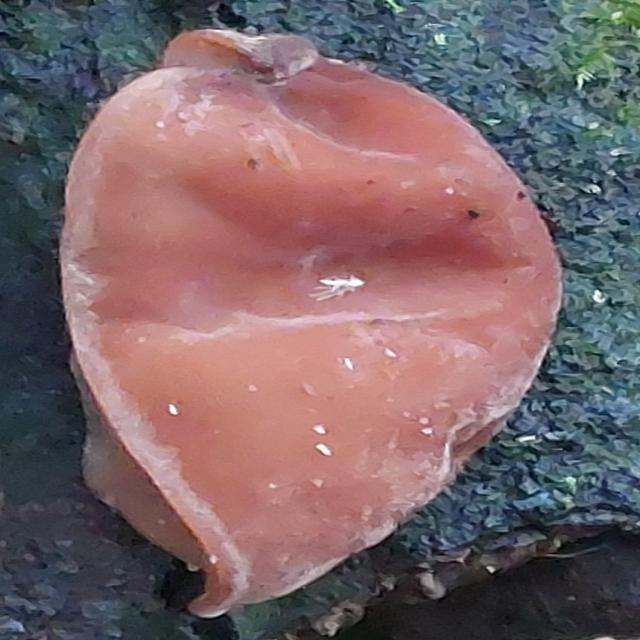Matang: (51, 21, 571, 618)
